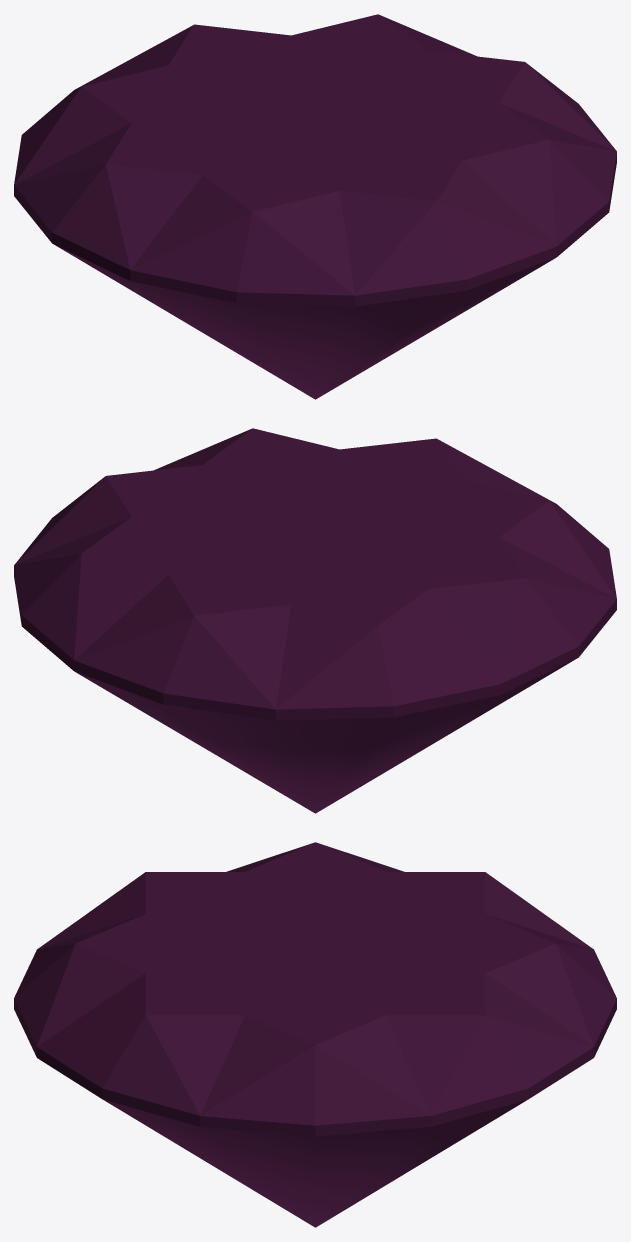
The model's file is diamanteOK.fbx.
3 views of the same model, one above another, from view 1: azimuth 30°, elevation 25°; view 2: azimuth 150°, elevation 25°; view 3: azimuth 270°, elevation 25° (orthographic).
Parts seen in each view (by area): view 1: Cylinder001; view 2: Cylinder001; view 3: Cylinder001.
Part boxes in pixels (<box>): Cylinder001: <box>14,14,616,399</box>; Cylinder001: <box>14,428,616,813</box>; Cylinder001: <box>14,842,616,1227</box>.
Size of the model in its own units: 0.5 by 0.26 by 0.5.
